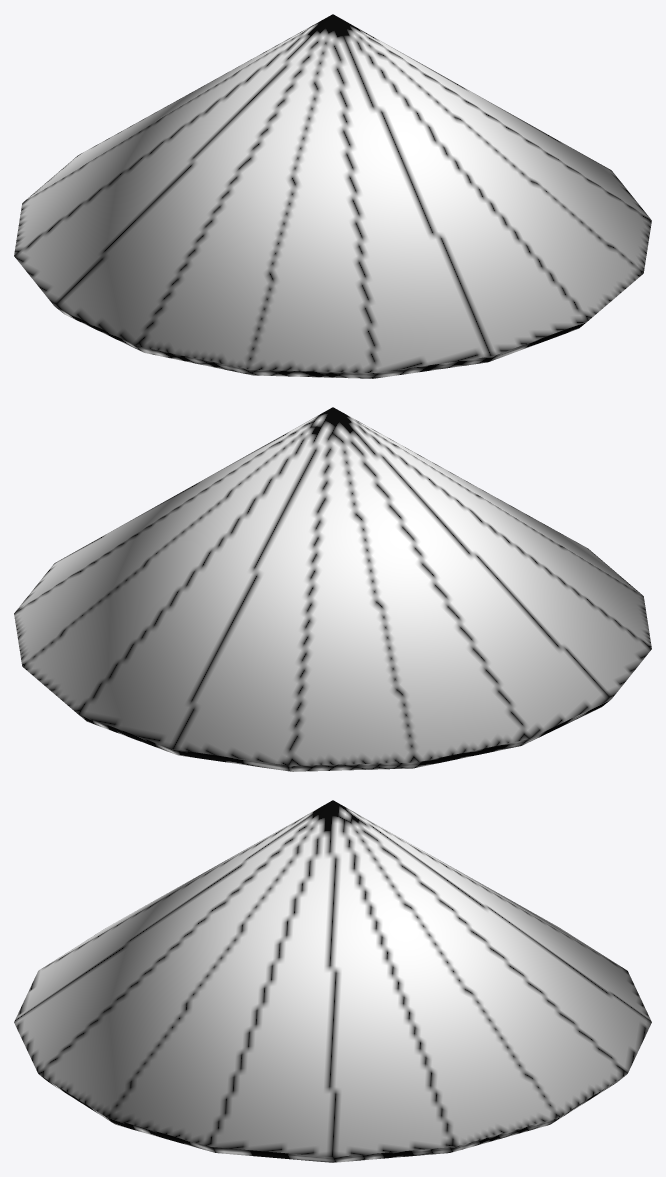
The model's file is light1.obj.
The picture shows the model from 3 angles, top to bottom: view 1: azimuth 30°, elevation 25°; view 2: azimuth 150°, elevation 25°; view 3: azimuth 270°, elevation 25°; orthographic projection.
Visible parts, largest first — view 1: cone1; view 2: cone1; view 3: cone1.
Part boxes in pixels (x1,y1,x2,y2): cone1: (14,14,651,378); cone1: (14,407,651,771); cone1: (14,800,651,1162).
Size of the model in its own units: 1.2 by 0.4833 by 1.2.
Materials: 2 (2 with a texture image).
